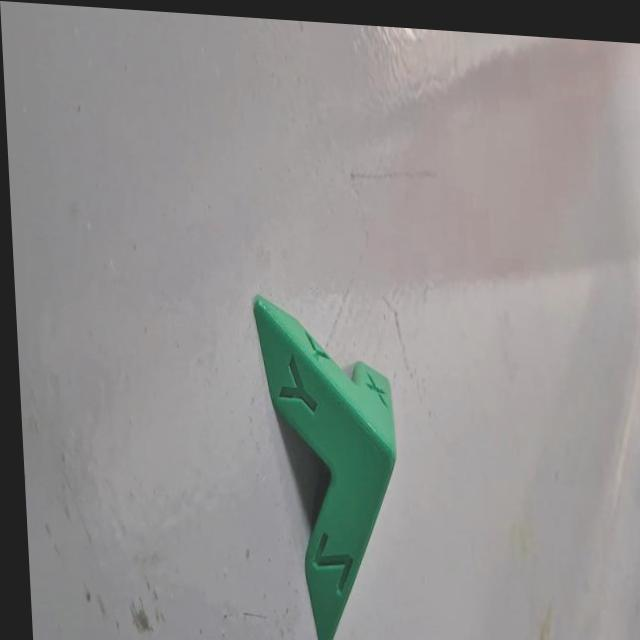eje: (246, 286, 412, 640)
